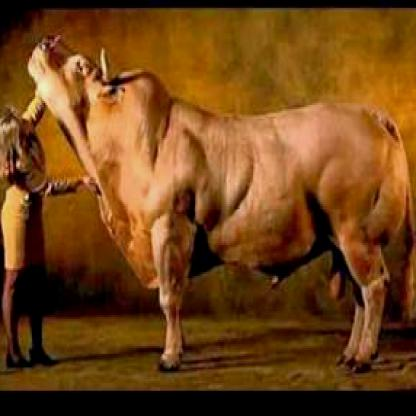cow: (27, 24, 414, 376)
